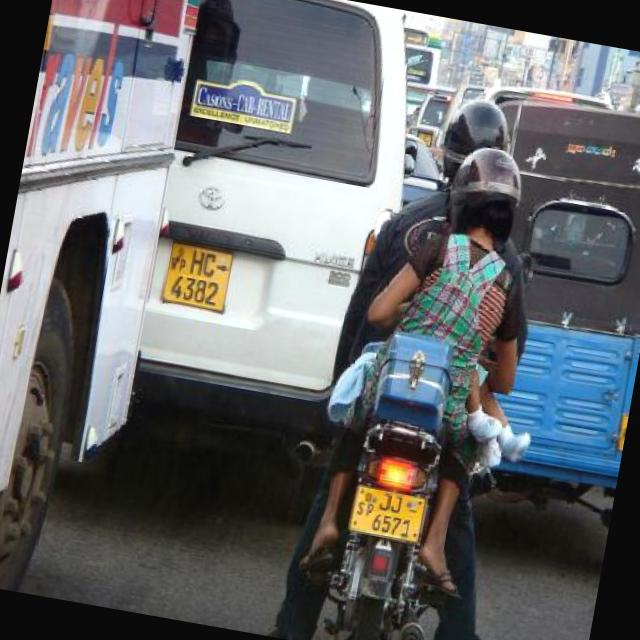Person: (271, 83, 572, 640), (289, 125, 538, 604), (453, 361, 542, 466)
